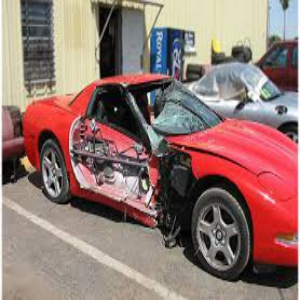door: (70, 126, 165, 217)
